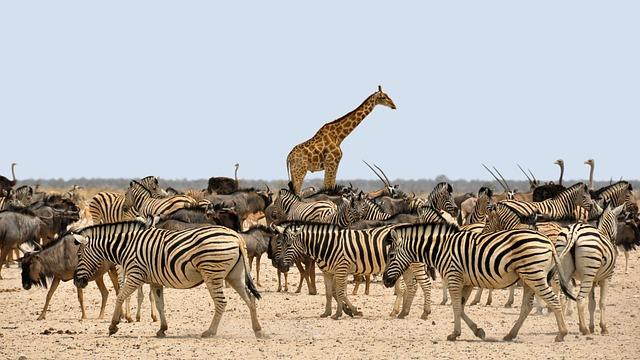Non_Gorille: (4, 88, 622, 360)
